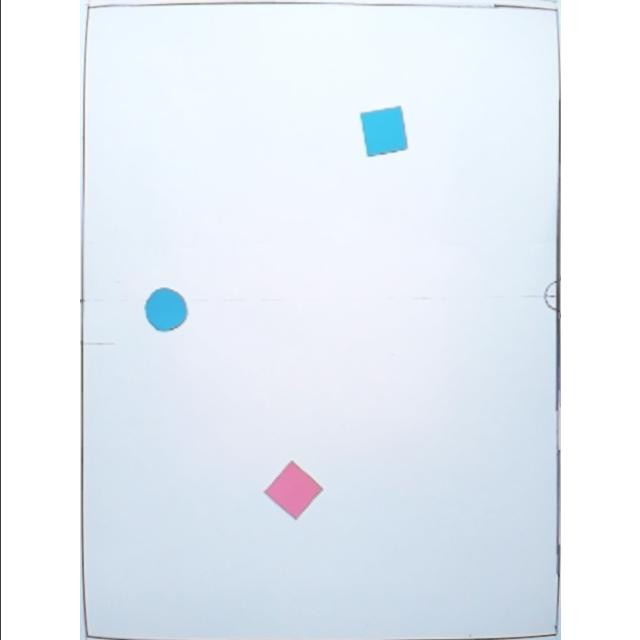blueCircle: (142, 284, 190, 336)
blueSquare: (356, 102, 410, 158)
pinkSquare: (263, 461, 323, 522)
